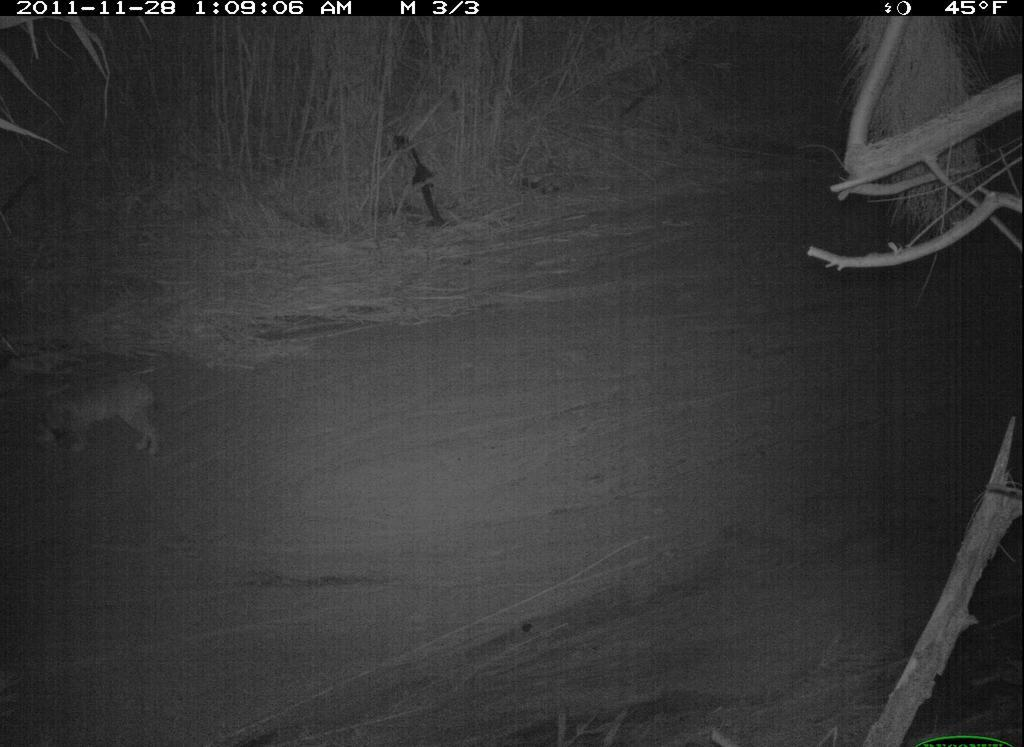bobcat: (26, 345, 216, 500)
